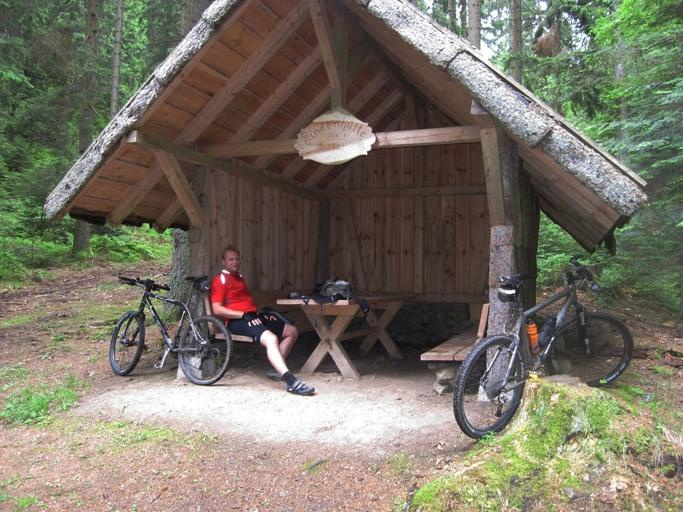non-vehicle: (452, 255, 638, 440), (107, 269, 235, 384)
